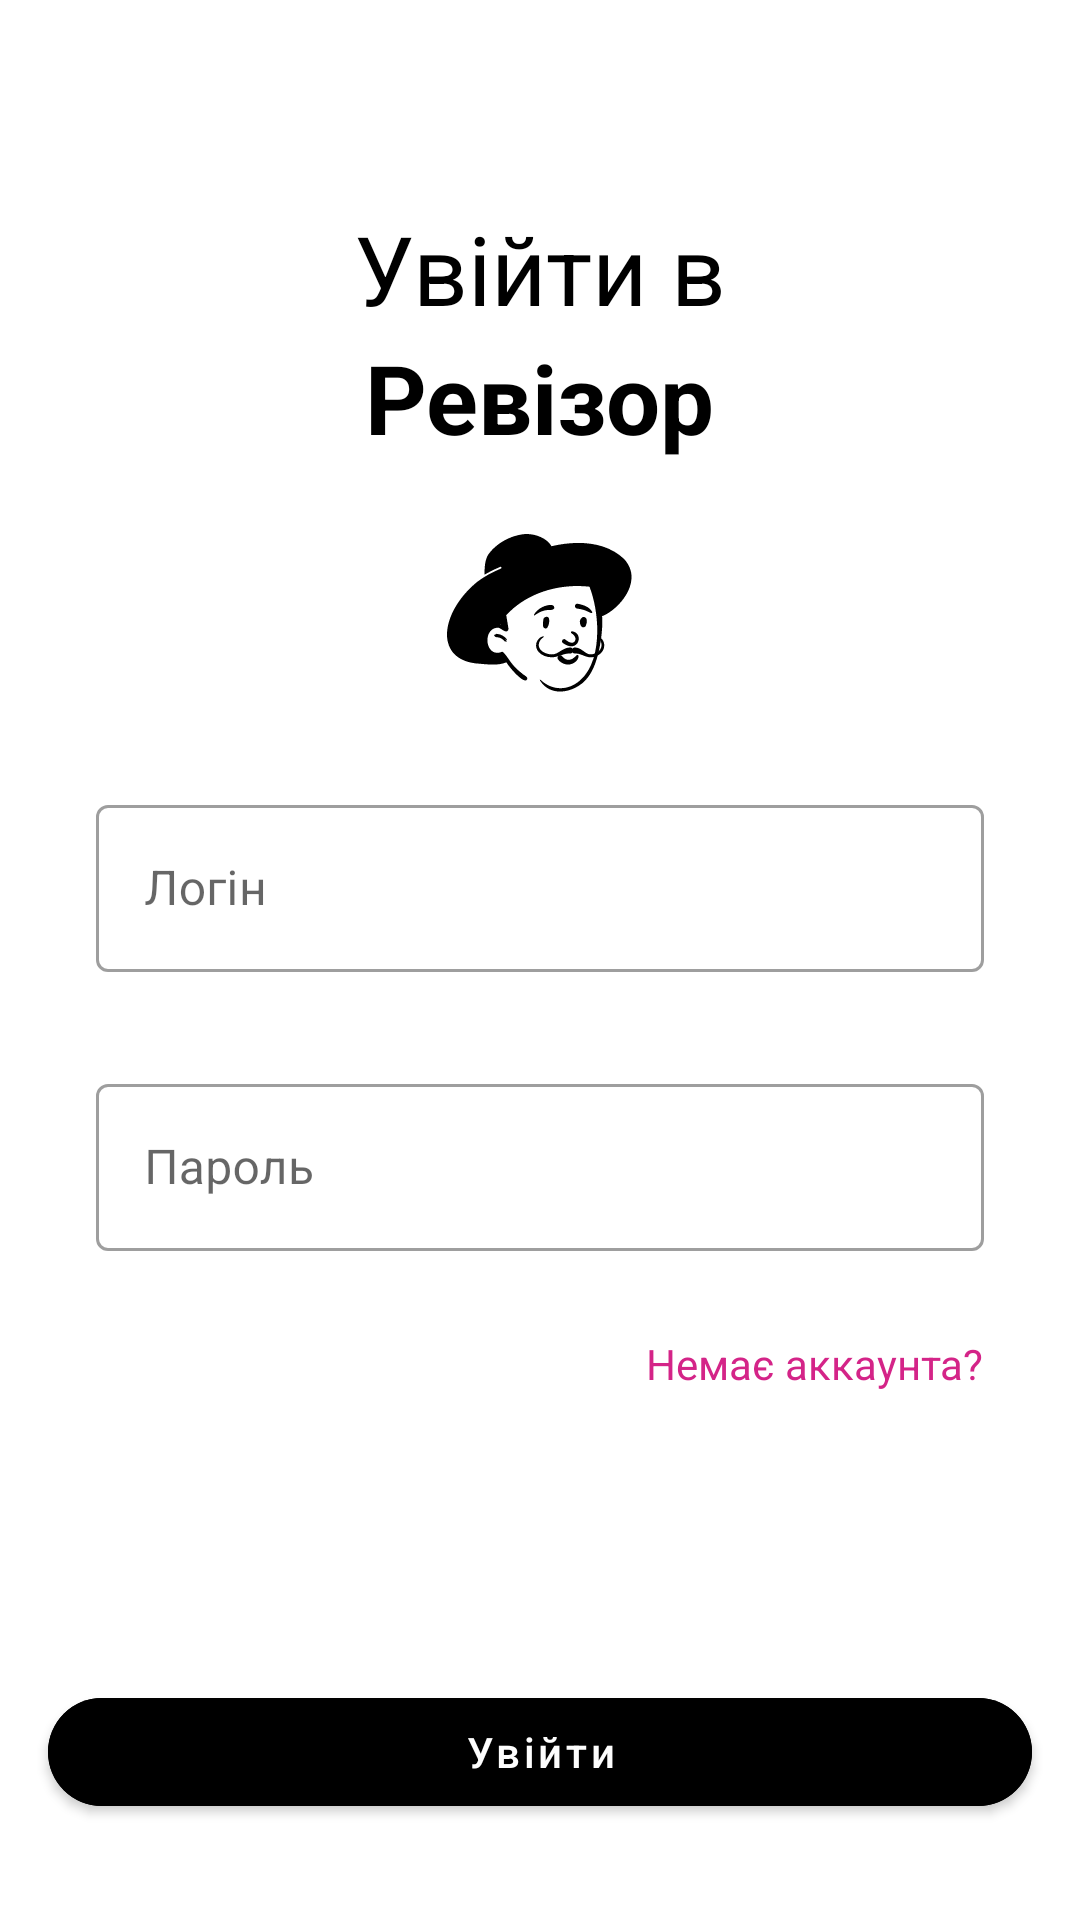

Screen size 1080x1920. Icon name, then its center in pixels as (x=x, y=y):
head: (x=539, y=613)
